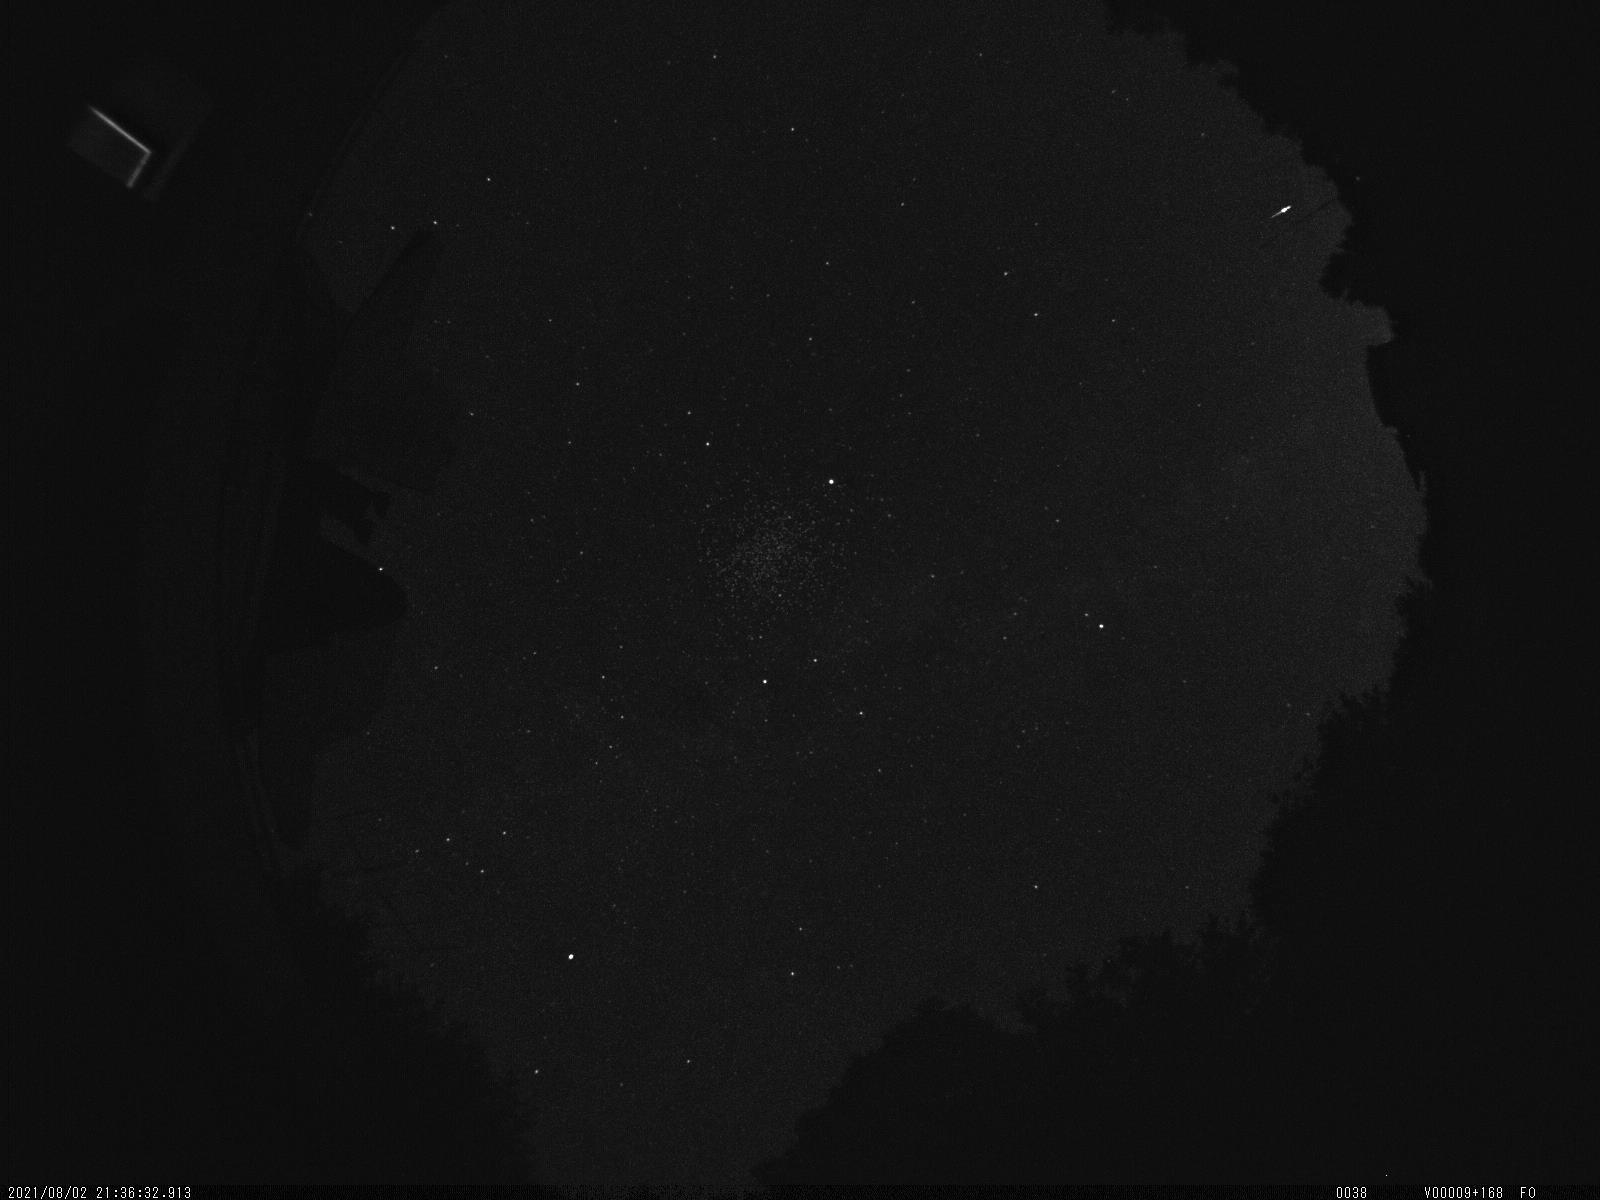Meteor: (1261, 202, 1299, 229)
